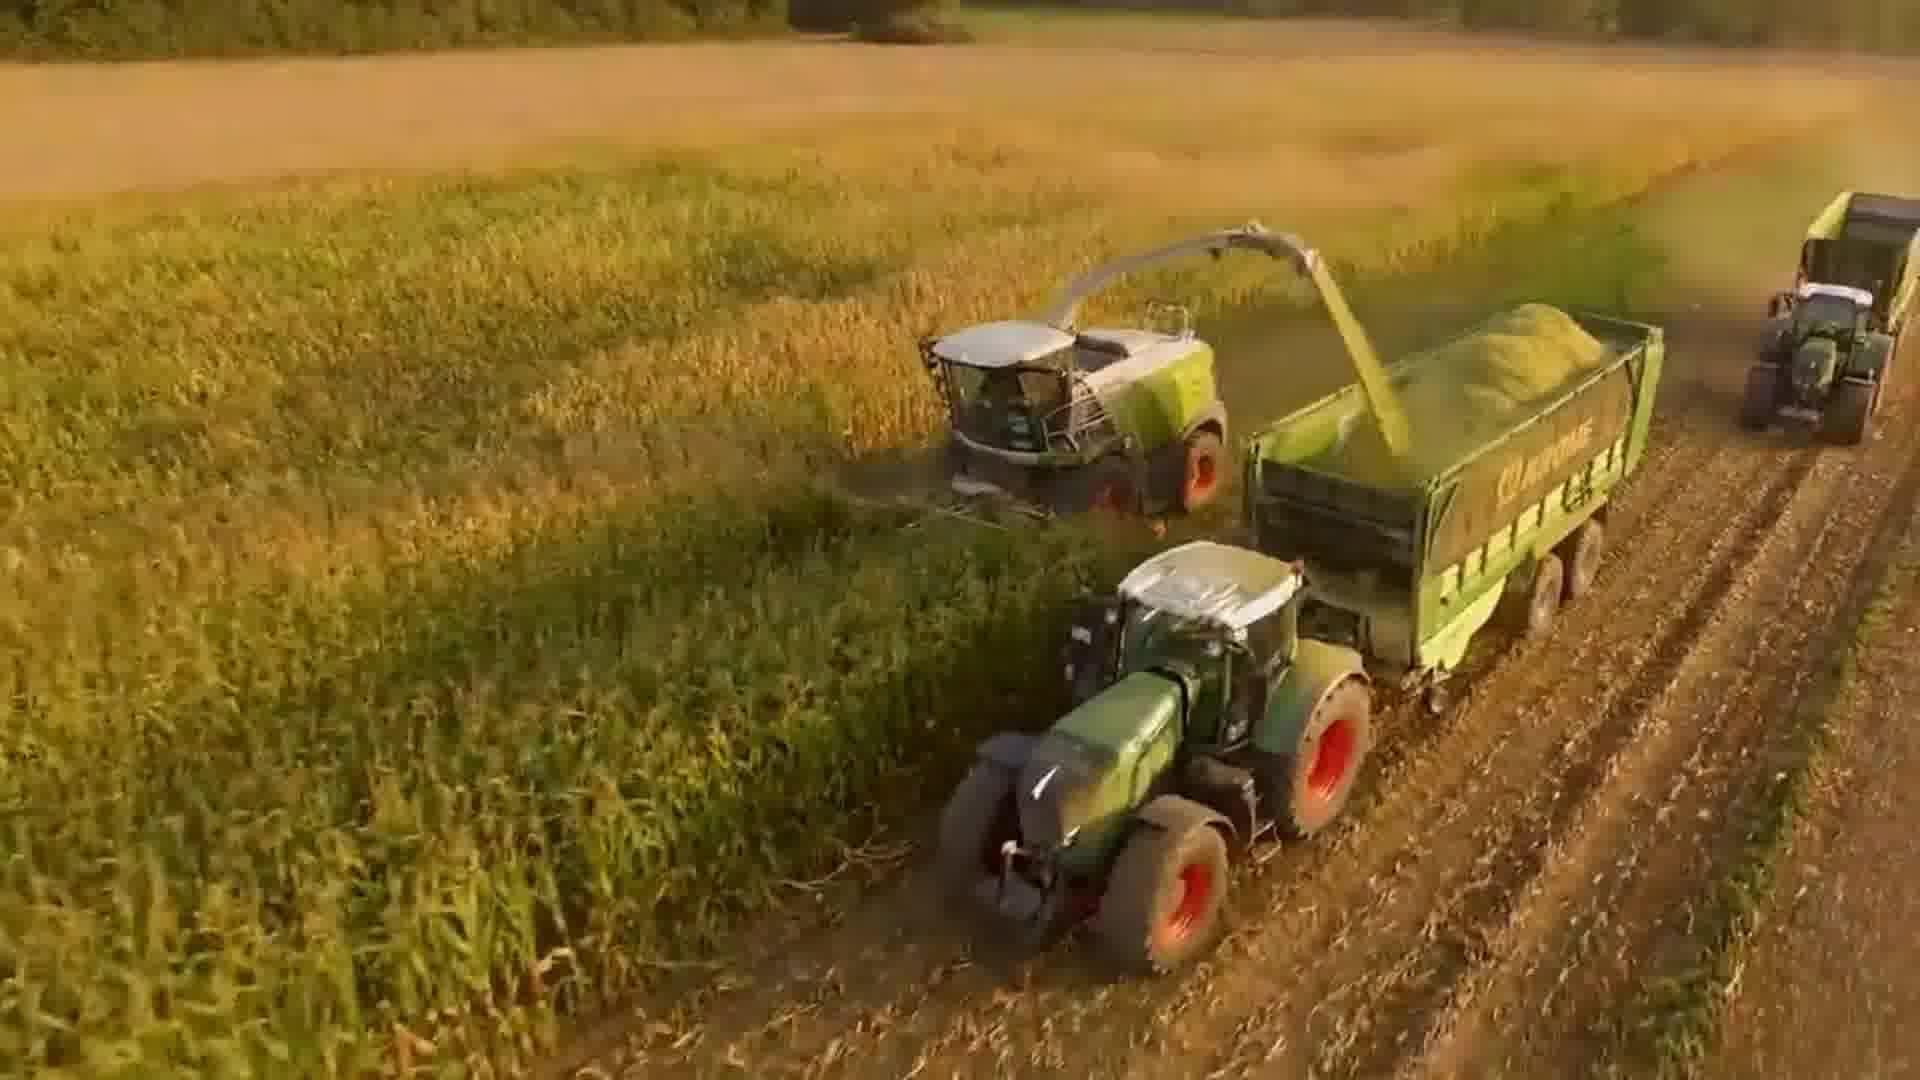combine harvester: (806, 212, 1324, 574)
tractor: (926, 533, 1385, 982), (1733, 273, 1899, 450)
trailer: (1236, 291, 1673, 700), (1797, 186, 1920, 323)
